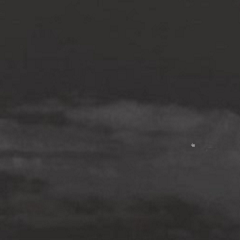Target: (190, 142, 197, 149)
